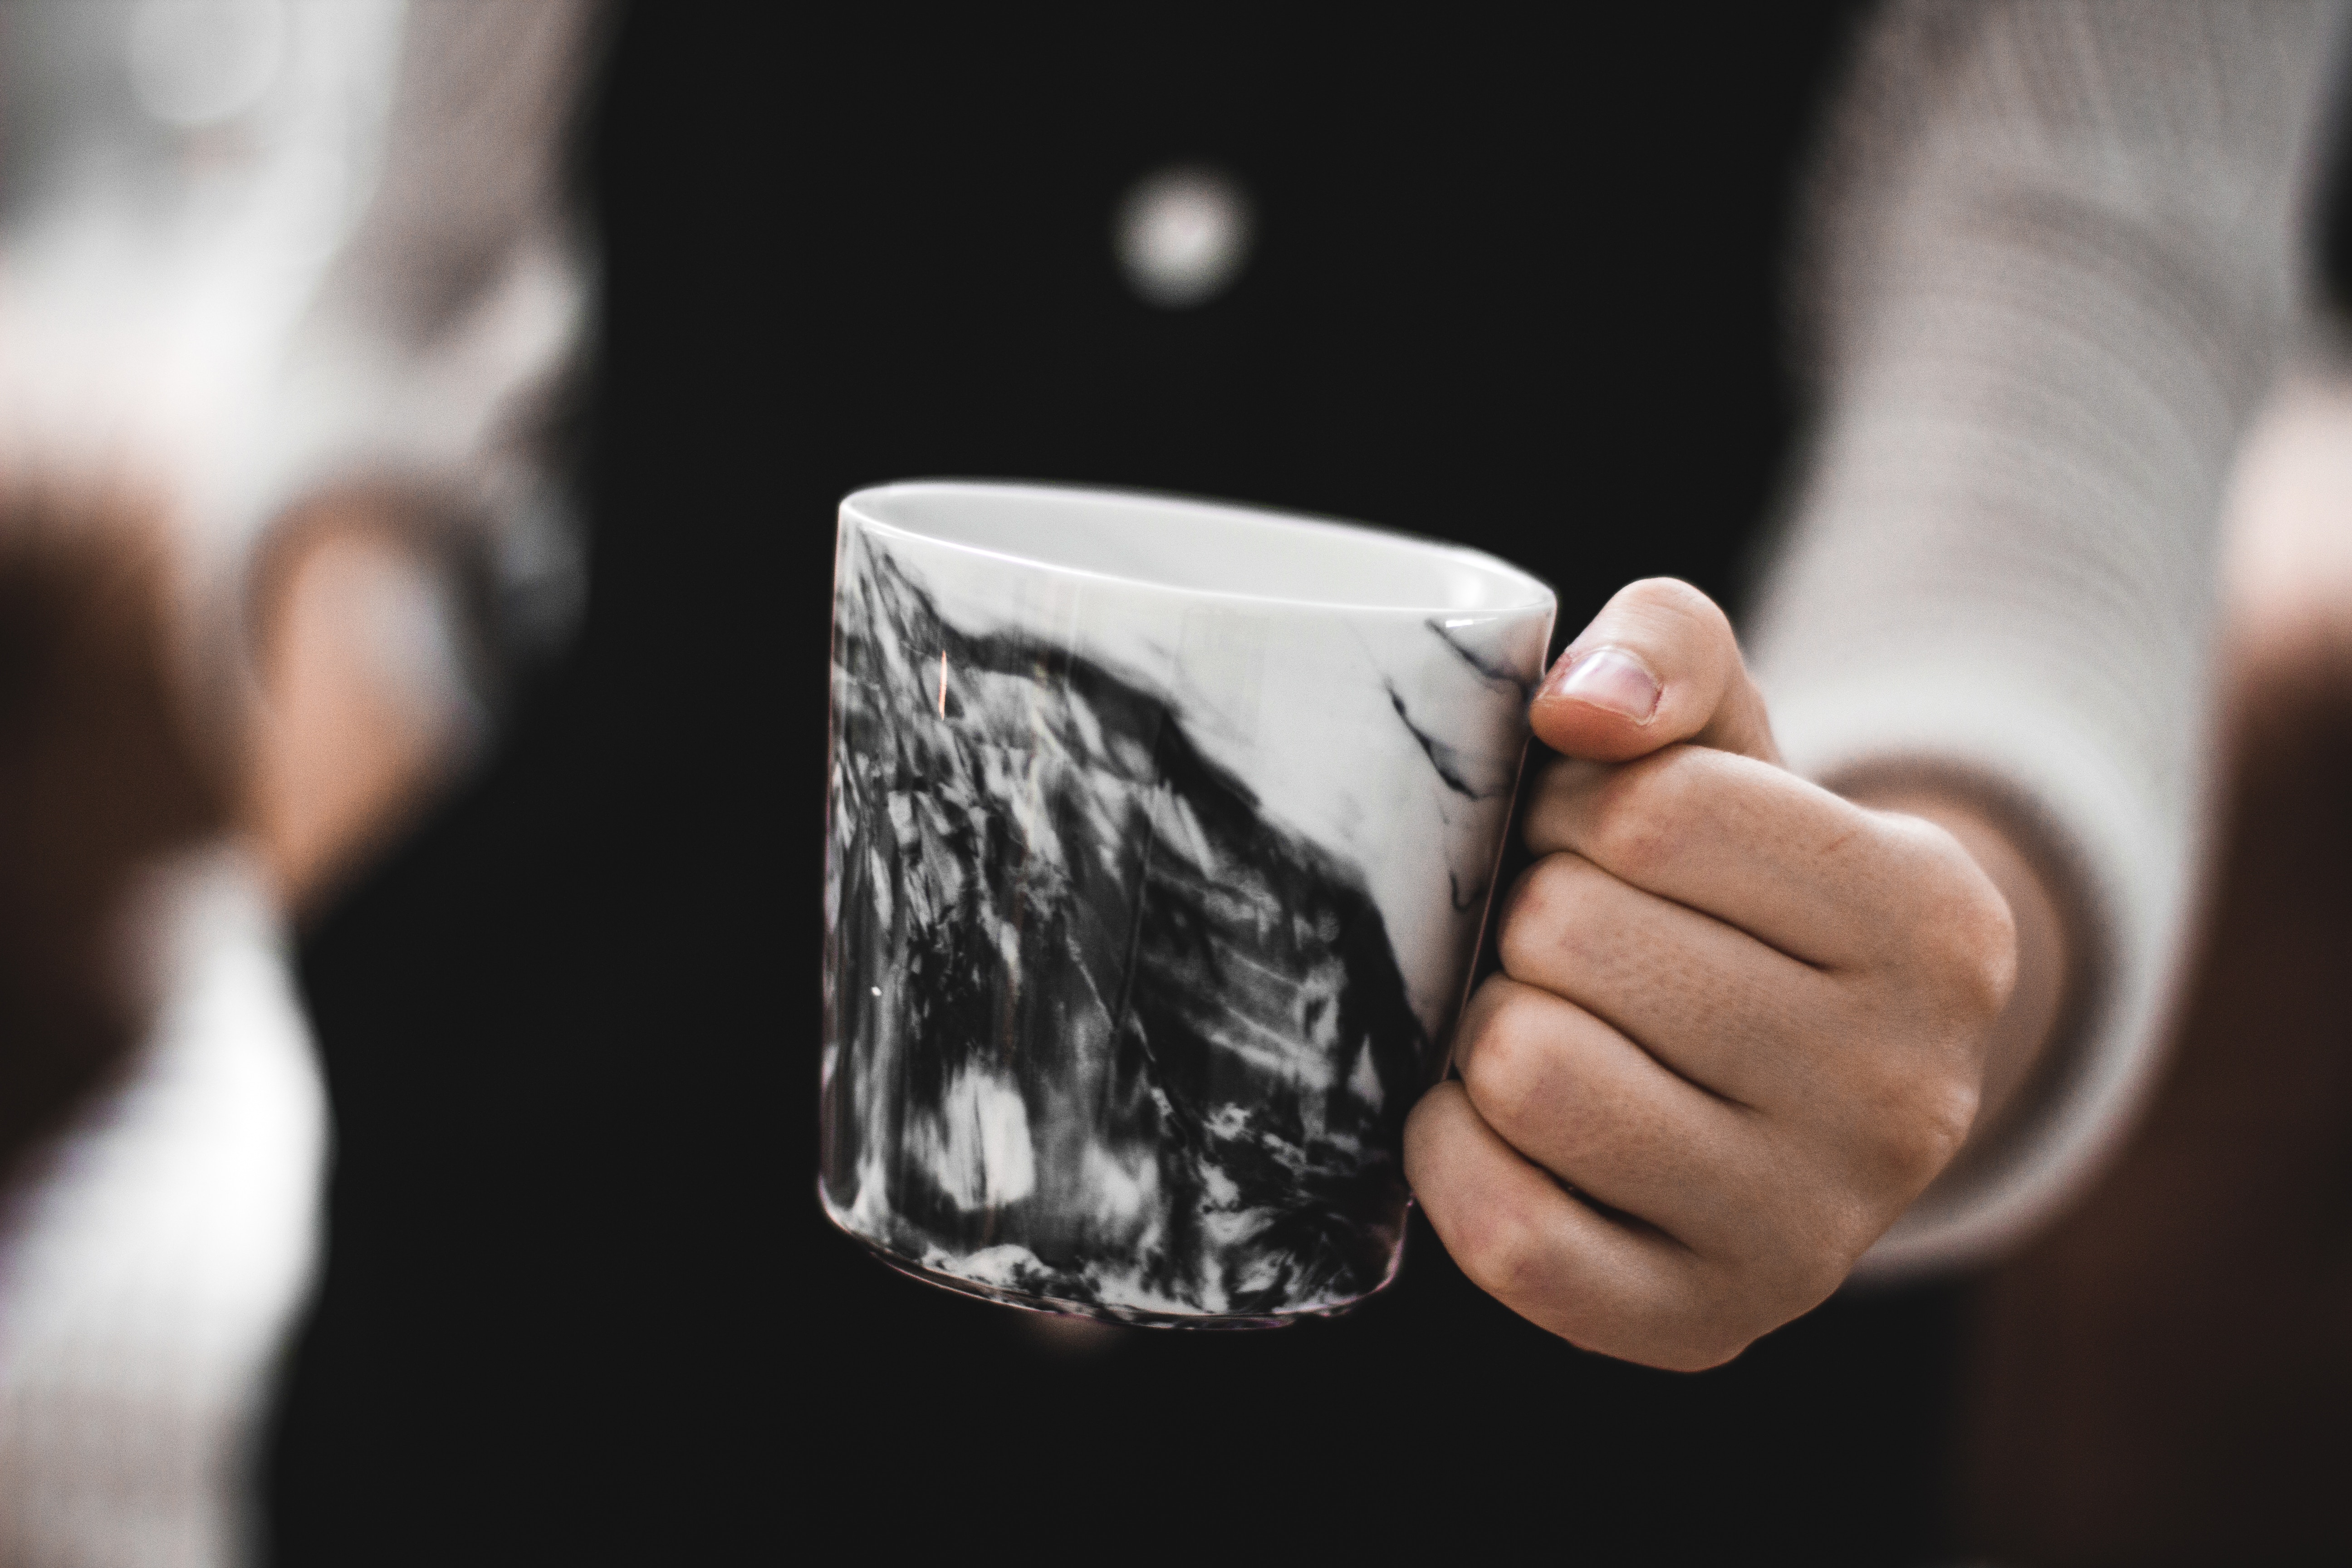fist: (1428, 644, 2062, 1409)
